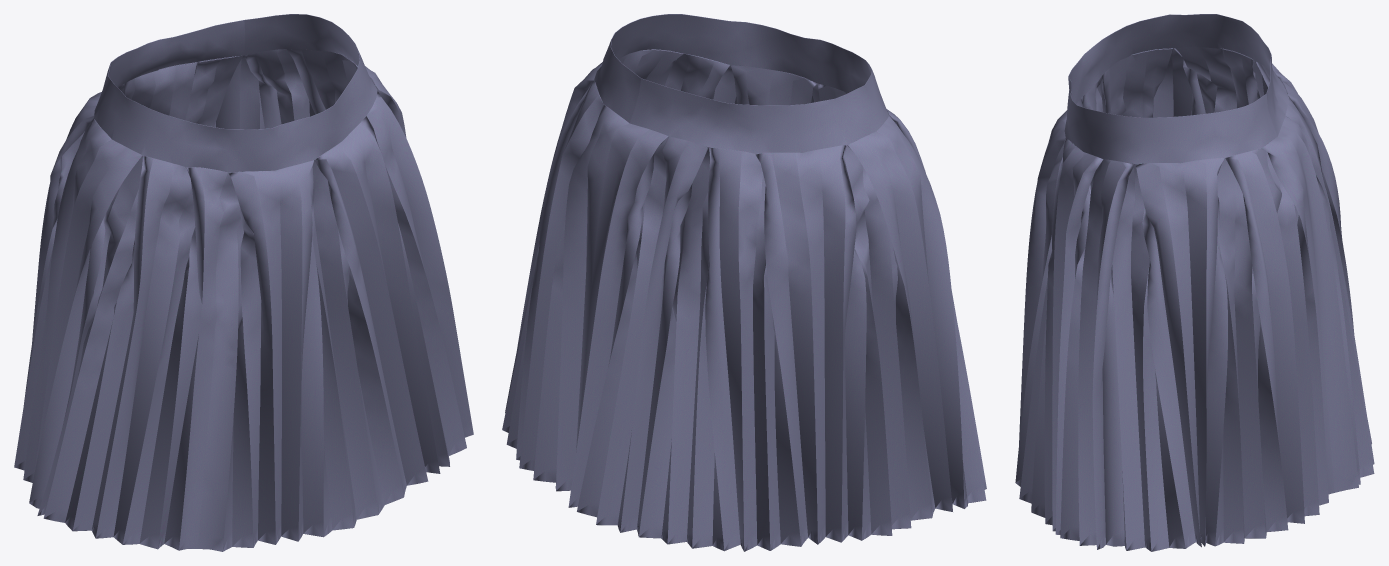
3 views of the same model, side by side, from view 1: azimuth 30°, elevation 25°; view 2: azimuth 150°, elevation 25°; view 3: azimuth 270°, elevation 25° (orthographic). The views are drawn at different scales.
Visible parts, largest first — view 1: Pattern2D_1251758, Pattern2D_1251757, Pattern2D_1249878; view 2: Pattern2D_1251757, Pattern2D_1251758, Pattern2D_1249878; view 3: Pattern2D_1251758, Pattern2D_1251757, Pattern2D_1249878.
Boxes of the visible parts, left/top/right/bottom form: Pattern2D_1251758: left=198, top=49, right=473, bottom=551; Pattern2D_1251757: left=14, top=55, right=242, bottom=550; Pattern2D_1249878: left=94, top=14, right=377, bottom=172; Pattern2D_1251757: left=568, top=109, right=986, bottom=551; Pattern2D_1251758: left=502, top=49, right=847, bottom=491; Pattern2D_1249878: left=594, top=14, right=888, bottom=153; Pattern2D_1251758: left=1015, top=98, right=1334, bottom=551; Pattern2D_1251757: left=1081, top=46, right=1374, bottom=492; Pattern2D_1249878: left=1064, top=14, right=1288, bottom=163.
Size of the model in its own units: 46.78 by 44.03 by 34.02.
